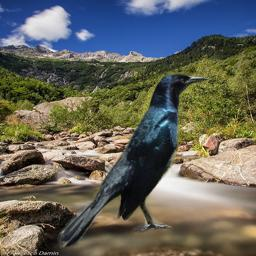Crow: (57, 71, 210, 249)
